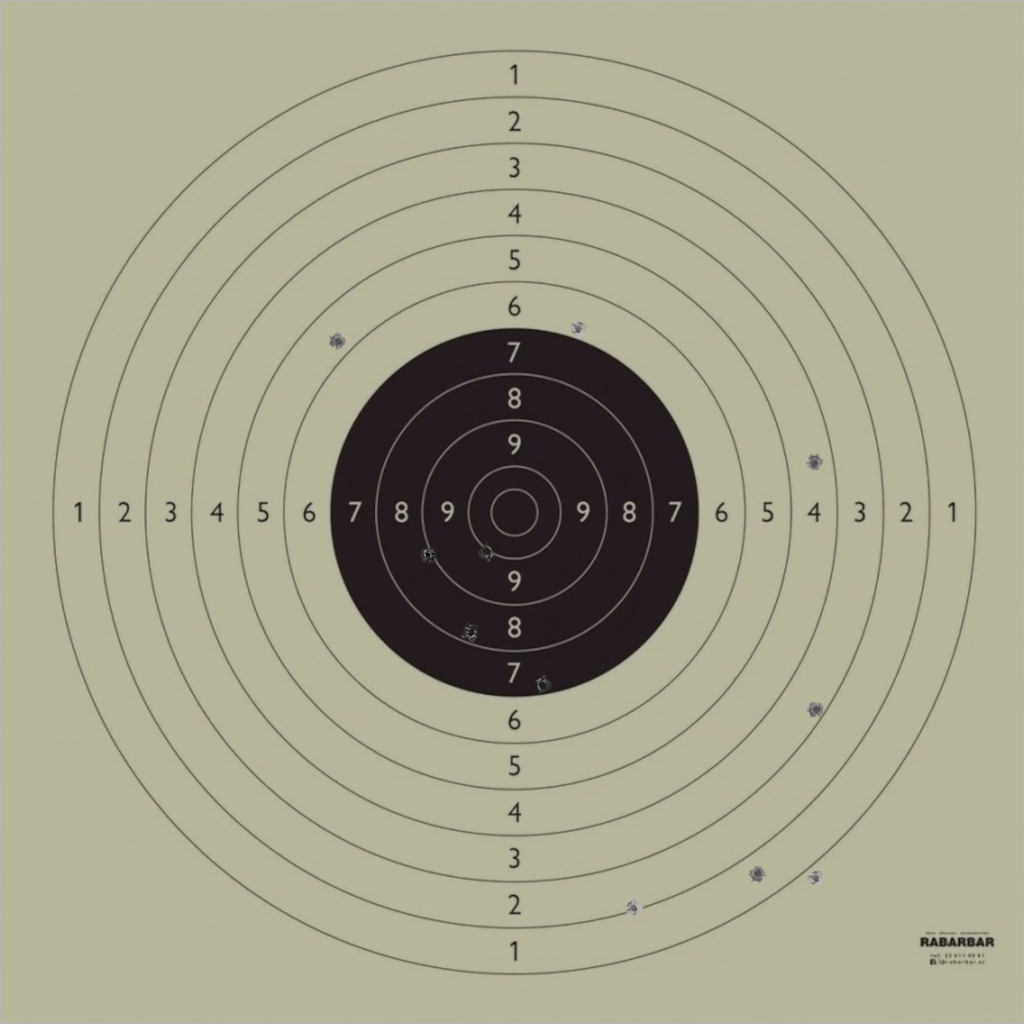0 punktow: (807, 869, 825, 888)
1 punkt: (748, 864, 767, 883)
10 punktow: (478, 543, 496, 561)
2 punkty: (624, 899, 643, 918)
3 punkty: (807, 700, 825, 719)
4 punkty: (805, 454, 824, 472)
5 punktow: (329, 332, 347, 351)
6 punktow: (569, 320, 587, 339)
7 punktow: (533, 676, 552, 694)
8 punktow: (462, 623, 480, 641)
9 punktow: (419, 545, 437, 564)
